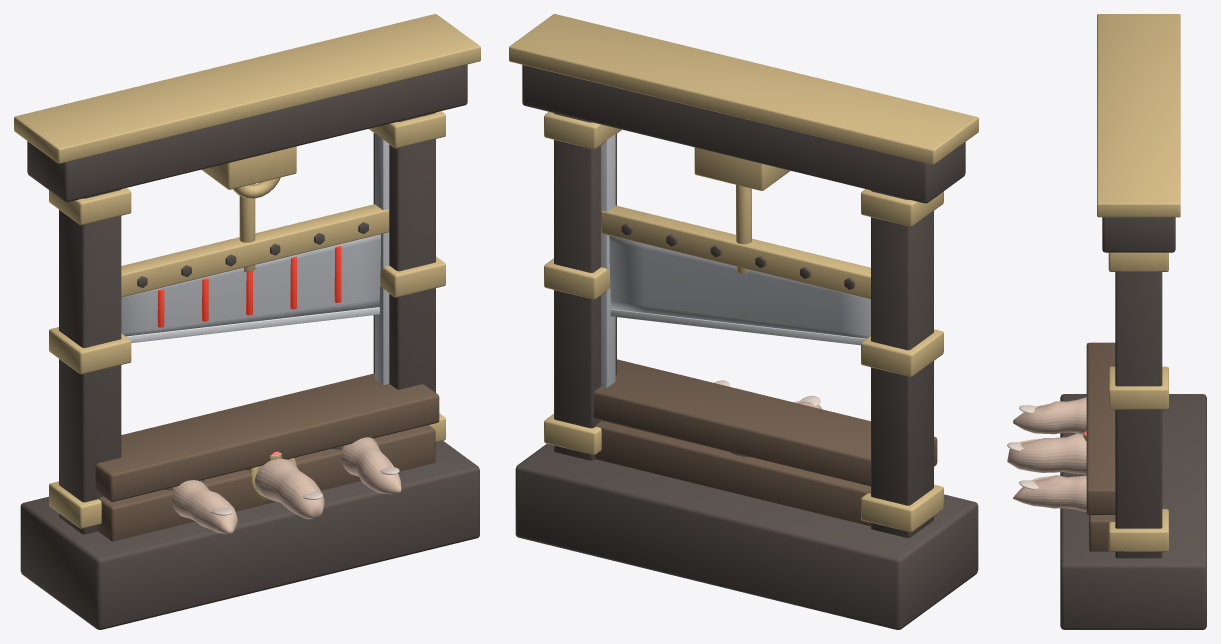
File: guillotine-pillory-assembly.glb
3 renders of one model, left to right at view 1: azimuth 30°, elevation 25°; view 2: azimuth 150°, elevation 25°; view 3: azimuth 270°, elevation 25°, orthographic. The views are drawn at different scales.
Visible parts, largest first — view 1: SM_PilloryBase, SM_HeadstockCrown, SM_UpperLockingStock, SM_GuillotineHeadstock, SM_GuillotinePost_-1.0, SM_GuillotineRazorBlade, SM_GuillotinePost_1.0, SM_LowerPilloryStock, SM_BladeWeightCrossbar, SM_GuideRail_1.0, SM_SculptedFinger_1, SM_PulleyHousing (+9 smaller); view 2: SM_PilloryBase, SM_HeadstockCrown, SM_GuillotineHeadstock, SM_UpperLockingStock, SM_GuillotinePost_-1.0, SM_GuillotineRazorBlade, SM_GuillotinePost_1.0, SM_LowerPilloryStock, SM_BladeWeightCrossbar, SM_GuideRail_1.0, SM_PulleyHousing, SM_PostCollar_-1.0_0.96 (+7 smaller); view 3: SM_PilloryBase, SM_HeadstockCrown, SM_GuillotinePost_1.0, SM_UpperLockingStock, SM_GuillotineHeadstock, SM_SculptedFinger_1, SM_SculptedFinger_0, SM_SculptedFinger_2, SM_PostCollar_1.0_0.96, SM_PostCollar_1.0_0.36, SM_PostCollar_1.0_1.54, SM_LowerPilloryStock.
Part boxes in pixels (<box>): SM_PilloryBase: <box>20,441,479,629</box>; SM_HeadstockCrown: <box>14,14,480,163</box>; SM_UpperLockingStock: <box>95,373,439,501</box>; SM_GuillotineHeadstock: <box>27,64,467,201</box>; SM_GuillotinePost_-1.0: <box>59,189,121,534</box>; SM_GuillotineRazorBlade: <box>121,234,380,336</box>; SM_GuillotinePost_1.0: <box>373,112,435,448</box>; SM_LowerPilloryStock: <box>98,425,435,541</box>; SM_BladeWeightCrossbar: <box>121,204,389,297</box>; SM_GuideRail_1.0: <box>375,133,389,385</box>; SM_SculptedFinger_1: <box>255,458,324,519</box>; SM_PulleyHousing: <box>201,146,296,189</box>; SM_PilloryBase: <box>515,443,978,629</box>; SM_HeadstockCrown: <box>509,14,978,164</box>; SM_GuillotineHeadstock: <box>522,65,965,203</box>; SM_UpperLockingStock: <box>594,359,937,486</box>; SM_GuillotinePost_-1.0: <box>871,190,933,537</box>; SM_GuillotineRazorBlade: <box>609,235,870,338</box>; SM_GuillotinePost_1.0: <box>554,113,616,460</box>; SM_LowerPilloryStock: <box>595,421,870,526</box>; SM_BladeWeightCrossbar: <box>601,205,870,299</box>; SM_GuideRail_1.0: <box>601,134,615,422</box>; SM_PulleyHousing: <box>694,147,790,190</box>; SM_PostCollar_-1.0_0.96: <box>861,329,943,376</box>; SM_PilloryBase: <box>1060,394,1206,629</box>; SM_HeadstockCrown: <box>1097,14,1180,217</box>; SM_GuillotinePost_1.0: <box>1115,272,1162,558</box>; SM_UpperLockingStock: <box>1086,342,1115,514</box>; SM_GuillotineHeadstock: <box>1102,217,1175,252</box>; SM_SculptedFinger_1: <box>1007,433,1086,474</box>; SM_SculptedFinger_0: <box>1013,397,1086,434</box>; SM_SculptedFinger_2: <box>1013,475,1086,511</box>; SM_PostCollar_1.0_0.96: <box>1108,366,1168,409</box>; SM_PostCollar_1.0_0.36: <box>1108,509,1168,551</box>; SM_PostCollar_1.0_1.54: <box>1108,252,1168,271</box>; SM_LowerPilloryStock: <box>1089,515,1115,551</box>.
Size of the model in its own units: 1.72 by 1.84 by 0.7637.
